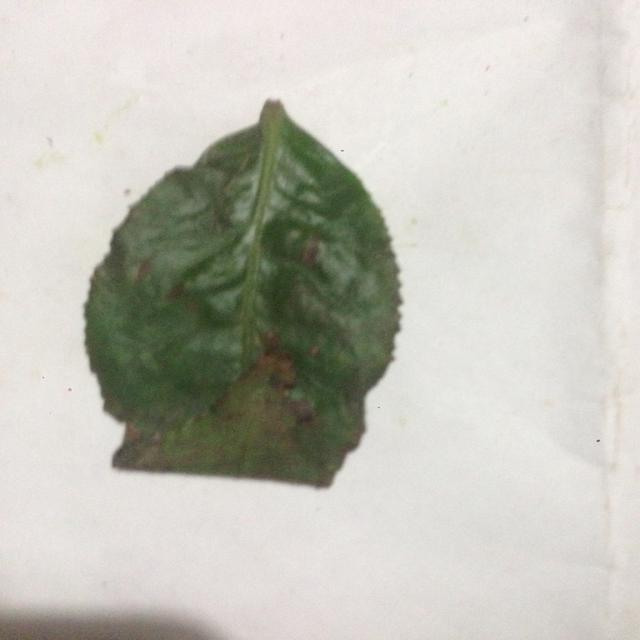Red Leaf Spot: (62, 88, 417, 492)
